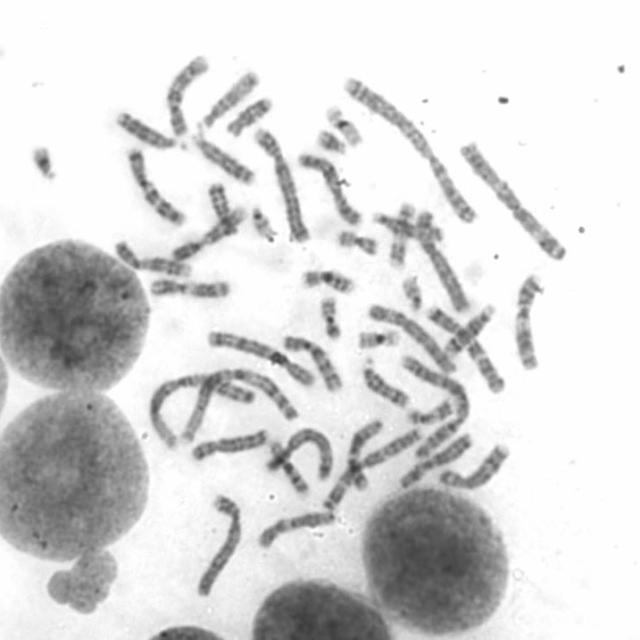A1: (175, 365, 300, 446), (145, 371, 258, 451)
A2: (340, 72, 482, 226), (402, 353, 473, 457)
A3: (456, 137, 569, 263), (321, 426, 425, 513)
B4: (252, 126, 313, 244), (191, 489, 245, 596)
B5: (205, 328, 316, 386), (265, 427, 333, 484)
C10: (164, 55, 212, 137), (282, 334, 346, 394)
C11: (512, 273, 546, 374), (149, 278, 232, 300)
C12: (255, 510, 338, 552), (344, 416, 386, 494)
C6: (368, 302, 459, 374), (413, 209, 472, 313)
C7: (427, 303, 505, 394), (123, 146, 188, 228)
C8: (296, 150, 364, 227), (436, 440, 509, 493)
C9: (172, 205, 248, 264), (111, 237, 192, 279)
D13: (190, 130, 257, 187), (115, 110, 188, 153)
D14: (441, 302, 498, 358), (360, 356, 412, 406)
D15: (195, 70, 260, 132), (370, 209, 446, 243)
E16: (268, 436, 311, 496), (299, 265, 356, 298)
E17: (402, 391, 461, 427), (386, 200, 416, 270)
E18: (223, 93, 273, 140), (207, 177, 245, 237)
F19: (325, 101, 365, 150), (354, 325, 402, 351)
F20: (317, 294, 343, 342), (336, 227, 379, 256)
G21: (28, 143, 61, 184), (311, 124, 350, 158)
G22: (250, 203, 278, 244), (400, 272, 425, 312)
X: (397, 431, 478, 491), (188, 423, 269, 464)
